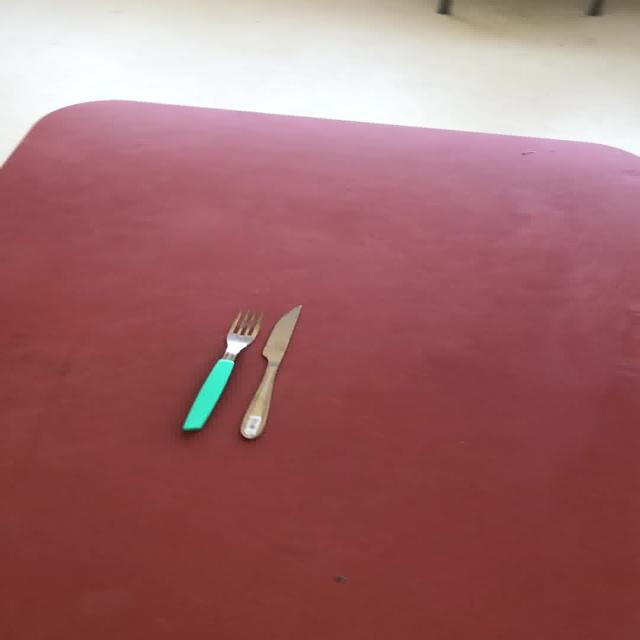fork: (180, 309, 262, 431)
knife fork: (238, 303, 302, 439)
